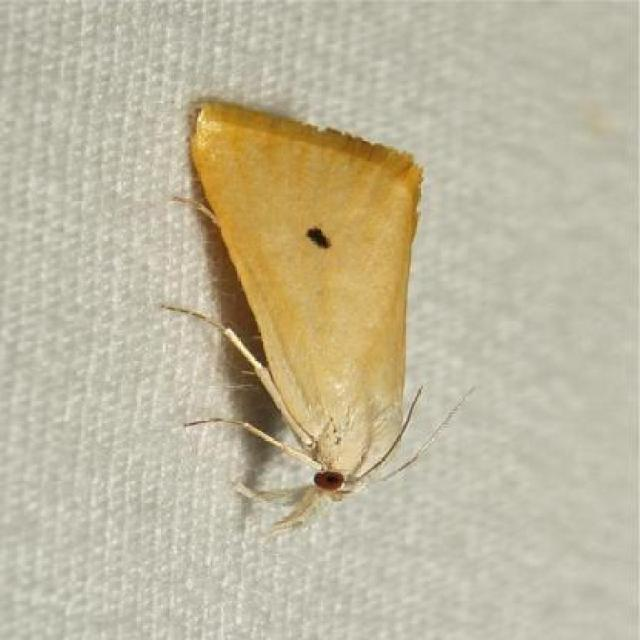stem-borer: (173, 93, 438, 545)
